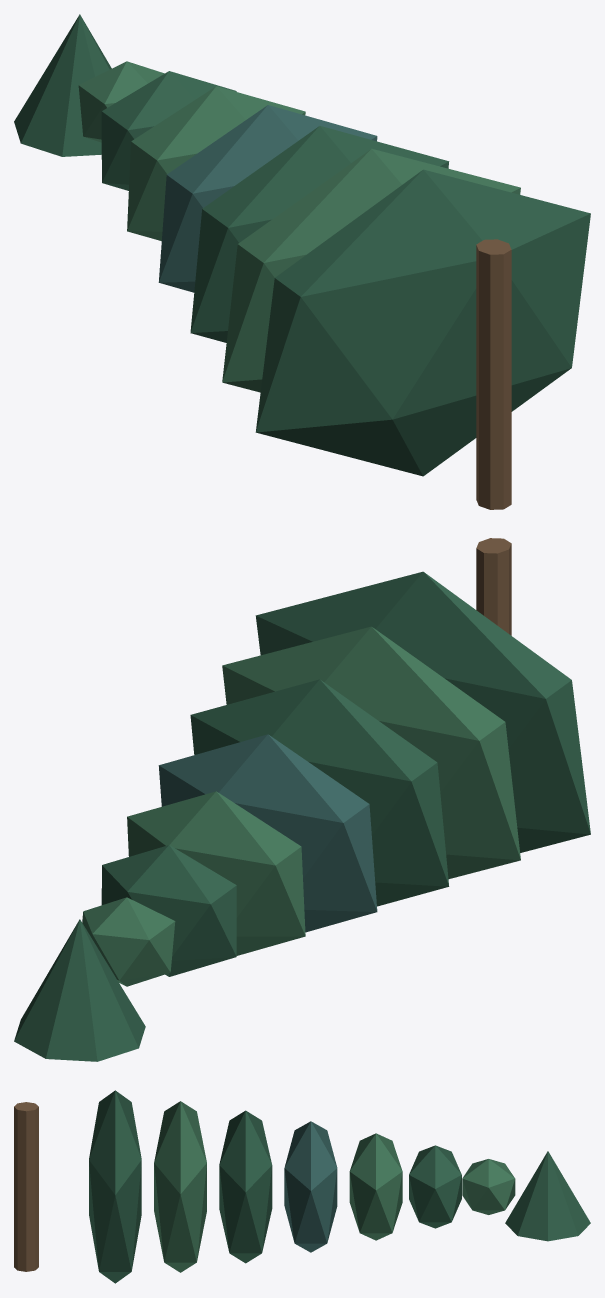
The model's file is hl-tree-alpha-layered-conifer.glb.
The picture shows the model from 3 angles, top to bottom: view 1: azimuth 30°, elevation 25°; view 2: azimuth 150°, elevation 25°; view 3: azimuth 270°, elevation 25°; orthographic projection. The views are drawn at different scales.
Parts seen in each view (by area): view 1: layered_conifer_foliage_0, layered_conifer_foliage_1, layered_conifer_foliage_2, layered_conifer_foliage_3, layered_conifer_trunk, layered_conifer_foliage_4, layered_conifer_top, layered_conifer_foliage_5, layered_conifer_foliage_6; view 2: layered_conifer_foliage_0, layered_conifer_foliage_1, layered_conifer_foliage_2, layered_conifer_foliage_3, layered_conifer_foliage_4, layered_conifer_top, layered_conifer_foliage_5, layered_conifer_foliage_6, layered_conifer_trunk; view 3: layered_conifer_foliage_0, layered_conifer_foliage_1, layered_conifer_foliage_2, layered_conifer_foliage_3, layered_conifer_foliage_4, layered_conifer_top, layered_conifer_trunk, layered_conifer_foliage_5, layered_conifer_foliage_6.
Part boxes in pixels (x1,y1,x2,y2): layered_conifer_foliage_0: [255, 169, 590, 476]; layered_conifer_foliage_1: [222, 148, 520, 392]; layered_conifer_foliage_2: [190, 126, 449, 342]; layered_conifer_foliage_3: [158, 105, 377, 292]; layered_conifer_trunk: [476, 239, 511, 509]; layered_conifer_foliage_4: [127, 86, 305, 240]; layered_conifer_top: [14, 14, 111, 156]; layered_conifer_foliage_5: [101, 71, 236, 190]; layered_conifer_foliage_6: [78, 61, 164, 142]; layered_conifer_foliage_0: [255, 571, 590, 852]; layered_conifer_foliage_1: [222, 626, 520, 878]; layered_conifer_foliage_2: [190, 679, 449, 906]; layered_conifer_foliage_3: [158, 734, 377, 932]; layered_conifer_foliage_4: [127, 791, 305, 955]; layered_conifer_top: [14, 919, 145, 1061]; layered_conifer_foliage_5: [101, 845, 236, 976]; layered_conifer_foliage_6: [82, 897, 175, 986]; layered_conifer_trunk: [476, 538, 511, 635]; layered_conifer_foliage_0: [89, 1090, 141, 1283]; layered_conifer_foliage_1: [154, 1101, 206, 1272]; layered_conifer_foliage_2: [219, 1110, 272, 1263]; layered_conifer_foliage_3: [284, 1121, 337, 1252]; layered_conifer_foliage_4: [349, 1133, 402, 1240]; layered_conifer_top: [505, 1151, 590, 1241]; layered_conifer_trunk: [14, 1102, 38, 1271]; layered_conifer_foliage_5: [409, 1145, 461, 1228]; layered_conifer_foliage_6: [462, 1159, 515, 1214].
Bounding box in the file's own units: 8.23 × 7.2 × 19.47.
